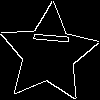I: (23, 28, 70, 47)
